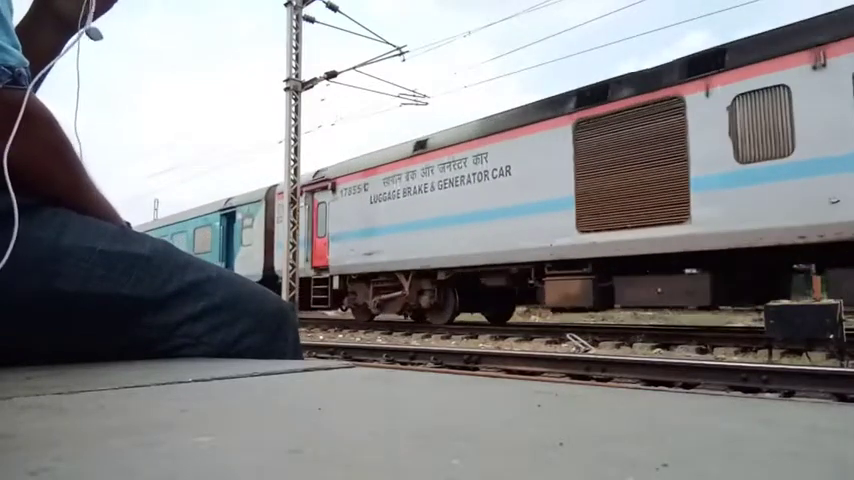Boogie: (331, 178, 371, 201)
Car Type: (372, 154, 517, 209)
